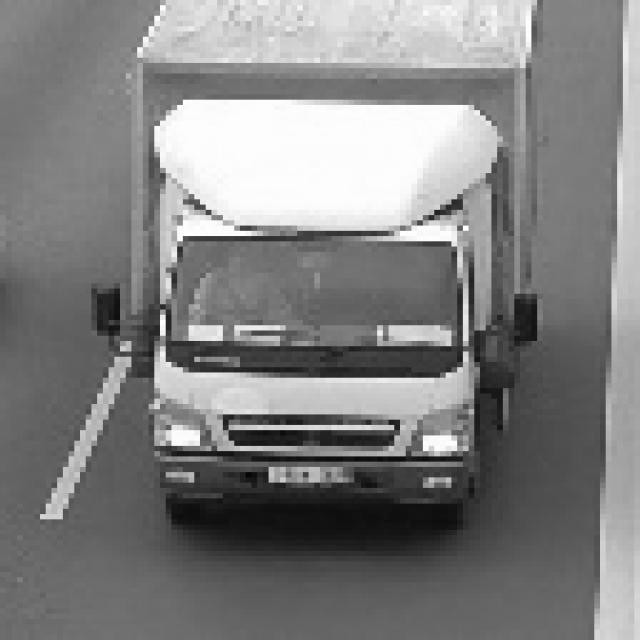truck: (93, 87, 539, 531)
